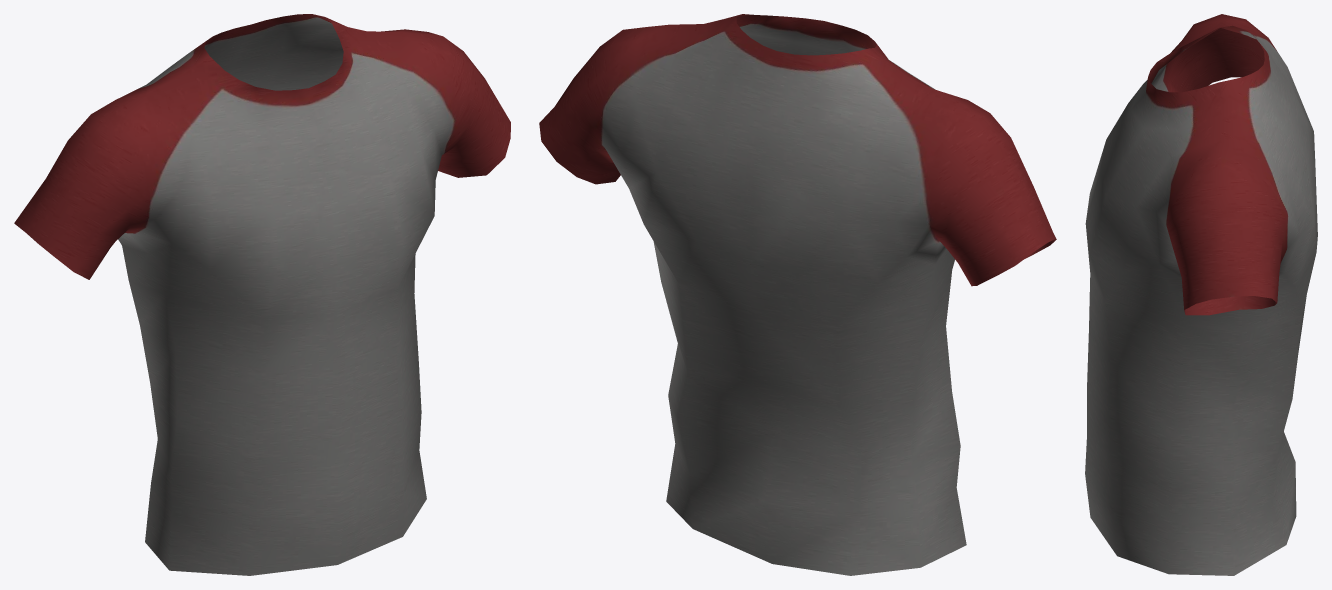
The picture shows the model from 3 angles, left to right: view 1: azimuth 30°, elevation 25°; view 2: azimuth 150°, elevation 25°; view 3: azimuth 270°, elevation 25°; orthographic projection. The views are drawn at different scales.
Parts seen in each view (by area): view 1: Object_2; view 2: Object_2; view 3: Object_2.
Boxes of the visible parts, x1,y1,x2,y2 form: Object_2: (14,14,510,575); Object_2: (539,14,1056,575); Object_2: (1085,14,1317,575).
Bounding box in the file's own units: 799 × 774 × 348.
Materials: 1 (1 with a texture image).
